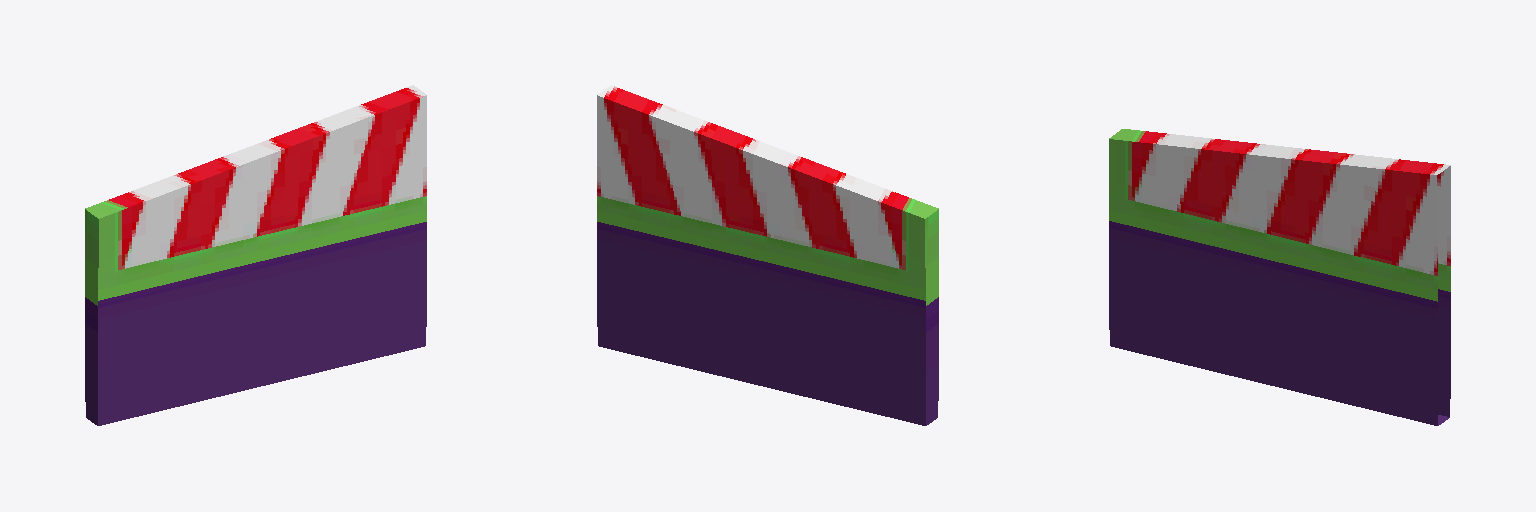
3 views of the same model, side by side, from view 1: azimuth 30°, elevation 25°; view 2: azimuth 150°, elevation 25°; view 3: azimuth 330°, elevation 25° (orthographic).
Parts seen in each view (by area): view 1: buzzlightyRightWing1_buzzlighty.008; view 2: buzzlightyRightWing1_buzzlighty.008; view 3: buzzlightyRightWing1_buzzlighty.008.
Boxes of the visible parts, x1=… form: buzzlightyRightWing1_buzzlighty.008: x1=85, y1=85, x2=426, y2=425; buzzlightyRightWing1_buzzlighty.008: x1=597, y1=85, x2=938, y2=425; buzzlightyRightWing1_buzzlighty.008: x1=1109, y1=129, x2=1450, y2=425.
Bounding box in the file's own units: 0.2634 × 0.1928 × 0.0194.
1 materials, 1 textured.